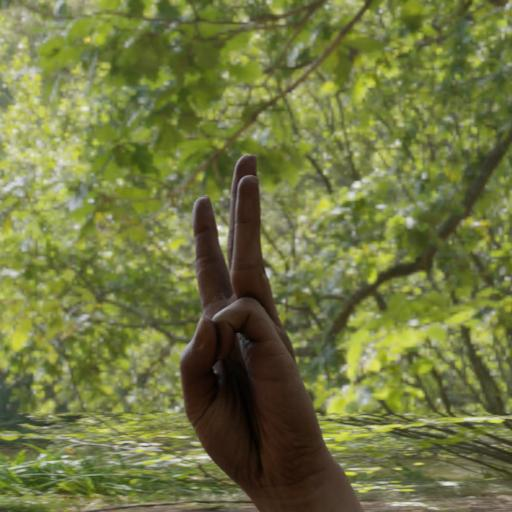W: (114, 107, 414, 512)
